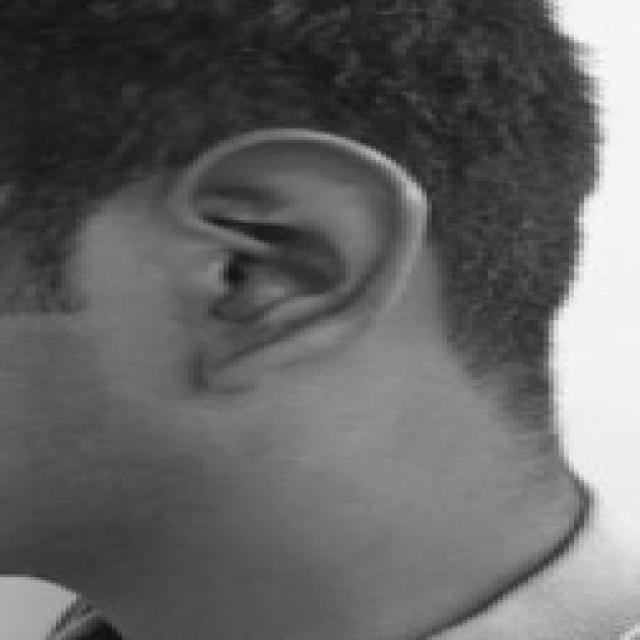ear: (163, 126, 417, 386)
